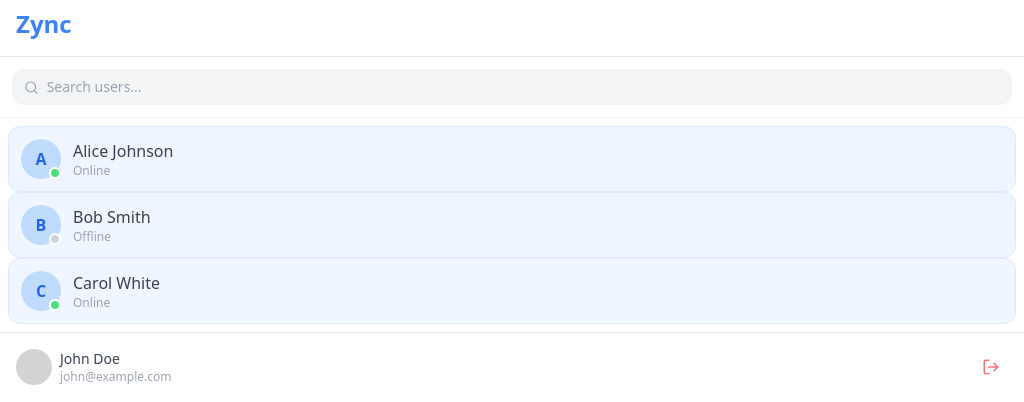
Test: Sidebar Component › filters users by search query
In the field with placeholder "Search users...": (523, 87) [47,77,1000,97], type "Alice"
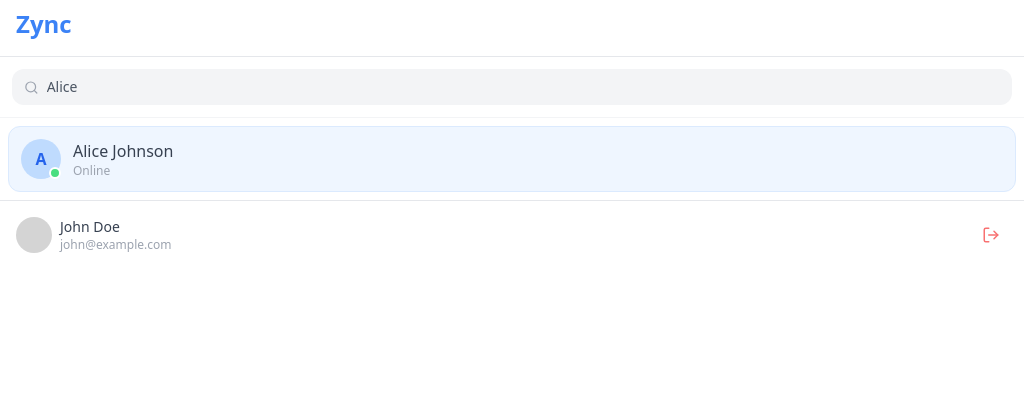
Expected: the text "Alice Johnson" is shown, [73,139,173,163]
Now the text "Bob Smith" is gone
Now the text "Carol White" is gone
